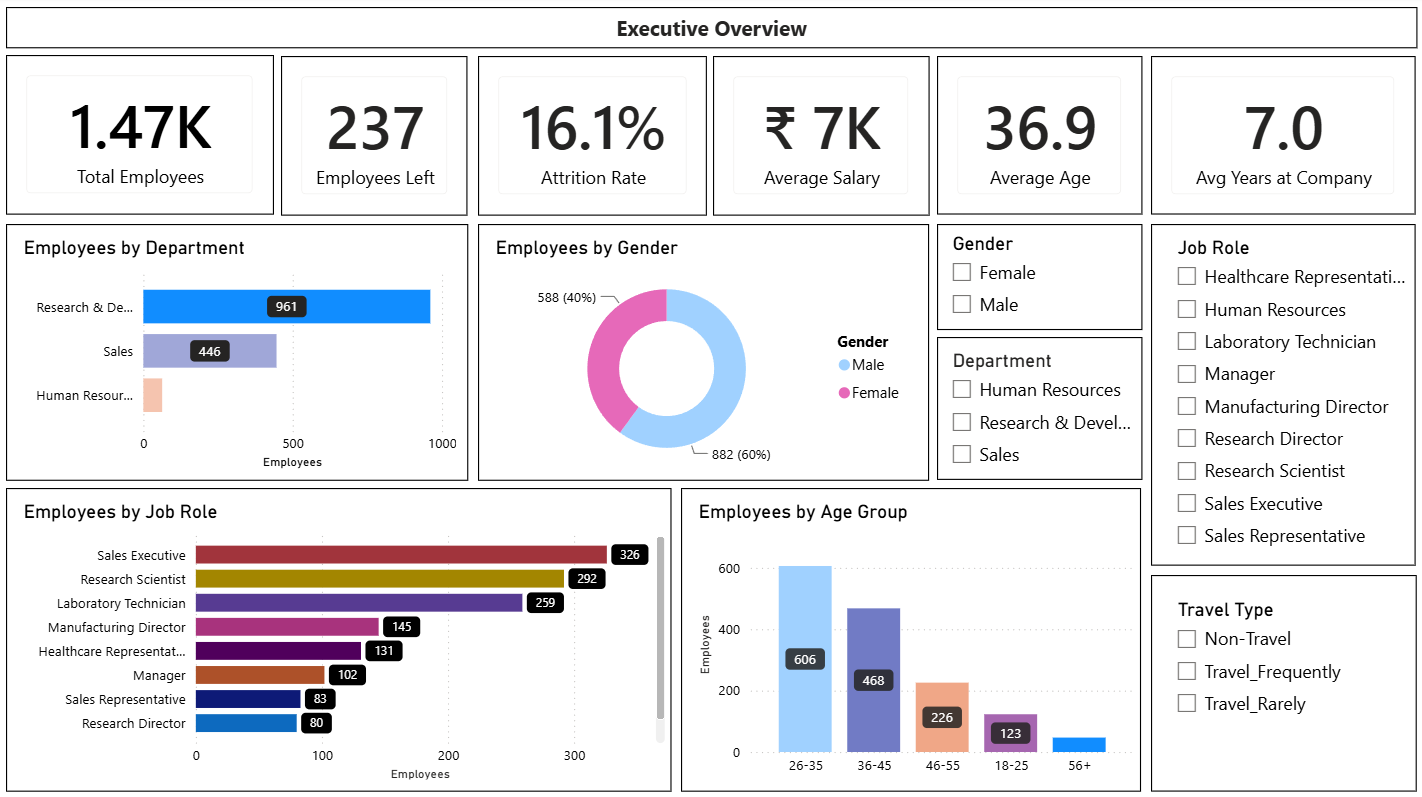

What the dashboard file says about the page in this screenshot:
{"tool":"powerbi","page":{"name":"Executive Overview","canvas":[1280,720],"ordinal":0},"visuals":[{"type":"cardVisual","fields":{"Data":["hr business_travel.Total Employees"]},"box":[6.8,52.2,239.6,143],"z":0},{"type":"cardVisual","fields":{"Data":["hr business_travel.Employees Left"]},"box":[253.9,52.5,167.3,143],"z":1000},{"type":"cardVisual","fields":{"Data":["hr business_travel.Attrition Rate"]},"box":[429.9,52.5,205.2,143],"z":2000},{"type":"cardVisual","fields":{"Data":["hr business_travel.Average Age"]},"box":[840.5,53.1,183.5,142],"z":3000},{"type":"cardVisual","fields":{"Data":["hr business_travel.Average Salary"]},"box":[640,52.5,193.6,143],"z":4000},{"type":"cardVisual","fields":{"Data":["hr business_travel.Average Years at Company"]},"box":[1032.7,53.1,236.7,142],"z":5000},{"type":"clusteredBarChart","title":"Employees by Department","fields":{"Category":["hr department.department_name"],"Y":["hr business_travel.Total Employees"]},"box":[6.8,202.9,414.4,229.9],"z":6000},{"type":"donutChart","title":"Employees by Gender","fields":{"Category":["hr employee.gender"],"Y":["hr business_travel.Total Employees"]},"box":[429.9,202.9,403.8,229.9],"z":7000},{"type":"clusteredBarChart","title":"Employees by Job Role","fields":{"Category":["hr job_role.job_role_name"],"Y":["hr business_travel.Total Employees"]},"box":[6.8,439.5,596,272.4],"z":8000},{"type":"slicer","fields":{"Values":["hr employee.gender"]},"box":[840.5,202.9,183.5,94.7],"z":9000},{"type":"slicer","fields":{"Values":["hr department.department_name"]},"box":[840.5,304.3,183.5,128.5],"z":10000},{"type":"slicer","fields":{"Values":["hr job_role.job_role_name"]},"box":[1032.9,203.3,237.3,306.4],"z":11000},{"type":"slicer","fields":{"Values":["hr business_travel.business_travel_name"]},"box":[1032.7,517.8,237.6,194.2],"z":12000},{"type":"clusteredColumnChart","title":" Employees by Age Group","fields":{"Category":["hr employee.Age Group"],"Y":["hr business_travel.Total Employees"]},"box":[611.5,439.5,412.5,272.4],"z":13000},{"type":"textbox","box":[6.8,8.7,1263.6,36.7],"z":14000}]}

Visuals, with their boxes in screenshot pixels (x1, y1, x2, y2), scaled from the page's 1280x720 canvas onto the 1422x797 screenshot:
cardVisual - hr business_travel.Total Employees: region(8, 58, 274, 216)
cardVisual - hr business_travel.Employees Left: region(282, 58, 468, 216)
cardVisual - hr business_travel.Attrition Rate: region(478, 58, 706, 216)
cardVisual - hr business_travel.Average Age: region(934, 59, 1138, 216)
cardVisual - hr business_travel.Average Salary: region(711, 58, 926, 216)
cardVisual - hr business_travel.Average Years at Company: region(1147, 59, 1410, 216)
"Employees by Department" clusteredBarChart: region(8, 225, 468, 479)
"Employees by Gender" donutChart: region(478, 225, 926, 479)
"Employees by Job Role" clusteredBarChart: region(8, 487, 670, 788)
slicer - hr employee.gender: region(934, 225, 1138, 329)
slicer - hr department.department_name: region(934, 337, 1138, 479)
slicer - hr job_role.job_role_name: region(1147, 225, 1411, 564)
slicer - hr business_travel.business_travel_name: region(1147, 573, 1411, 788)
" Employees by Age Group" clusteredColumnChart: region(679, 487, 1138, 788)
textbox: region(8, 10, 1411, 50)
